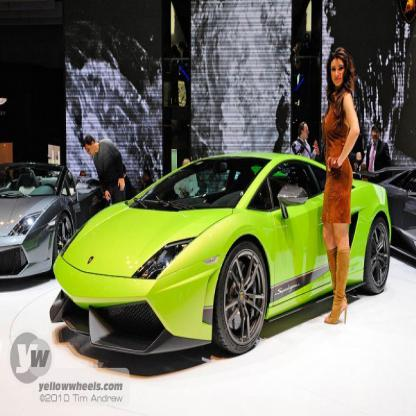Vehicle: (51, 152, 392, 359)
